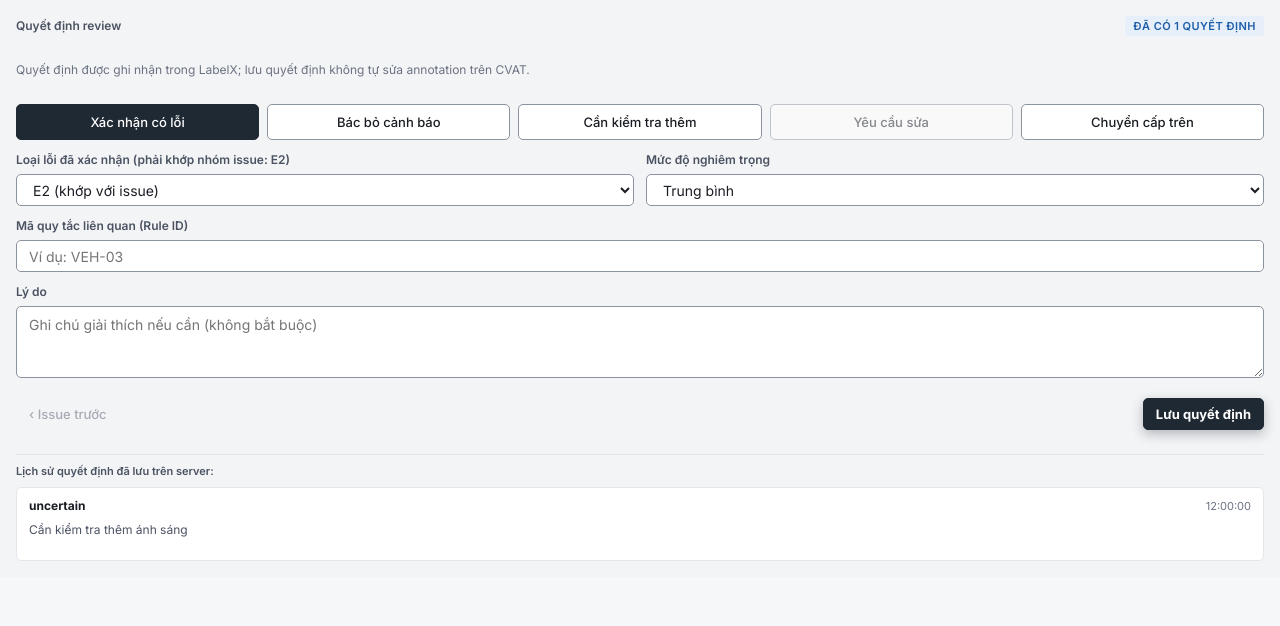
T-035 PR130 Interface Integration Tests (T-037 Preparation) › ReviewDecisionForm T-035 contract behavior › handles 409 IDEMPOTENCY_KEY_REUSED without invalidating lease
Click the button "Lưu quyết định": {"x": 1203, "y": 414} [1143,398,1264,430]
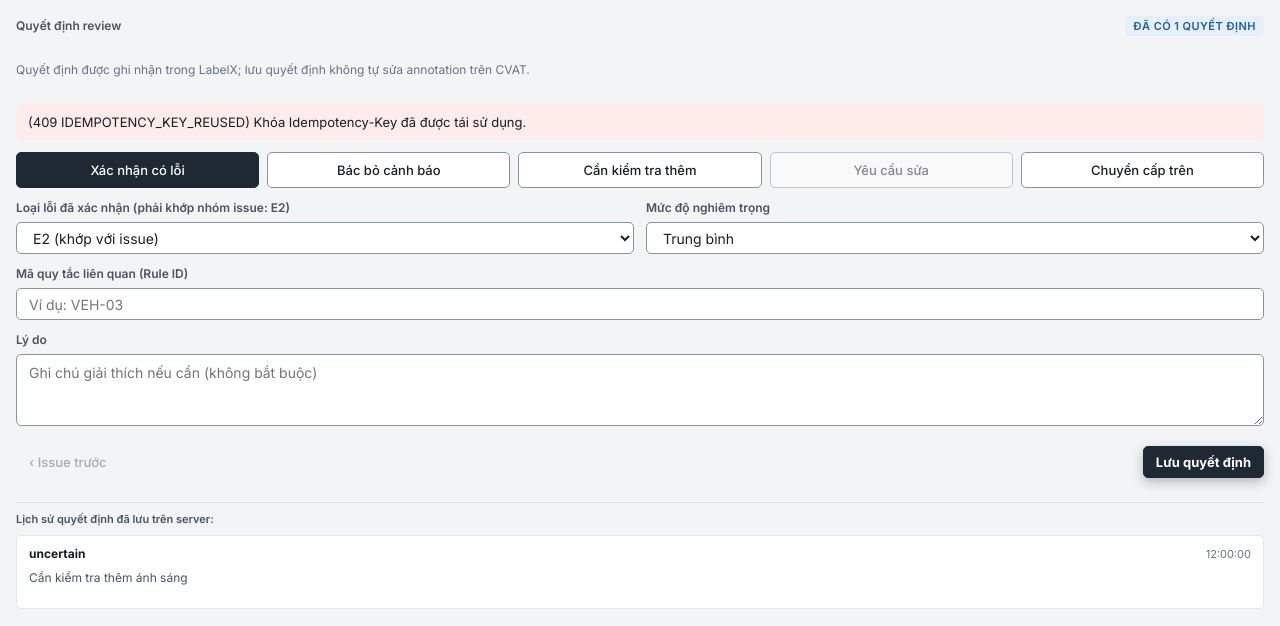
Now the text "IDEMPOTENCY_KEY_REUSED" is shown, box [28,114,526,130]
